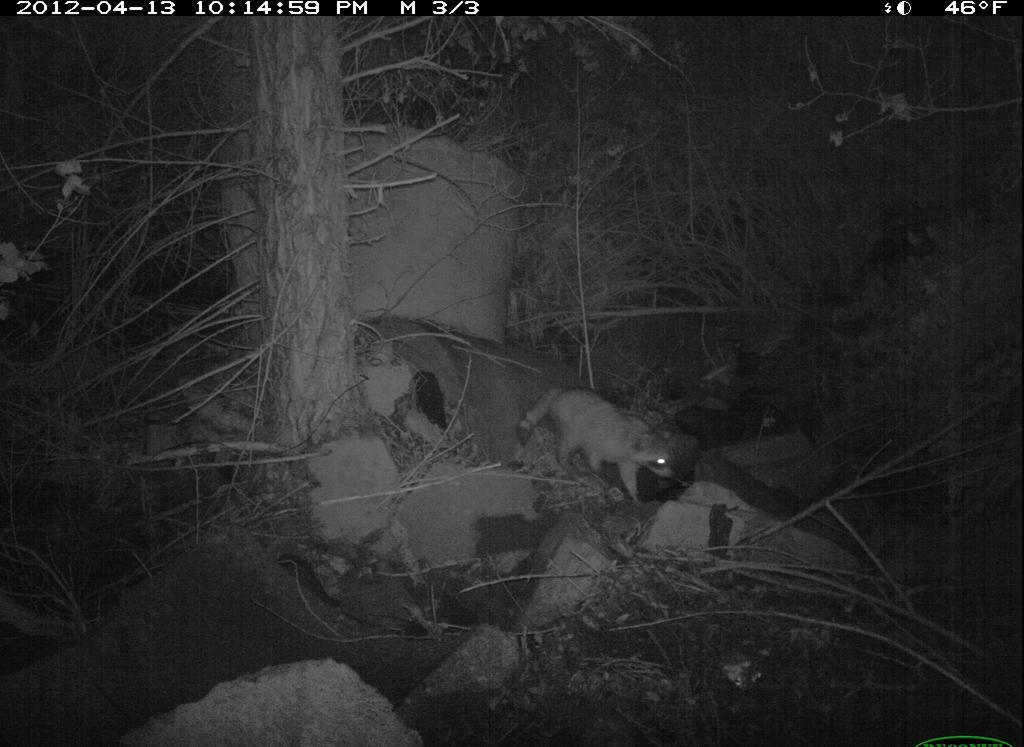raccoon: (509, 365, 689, 497)
